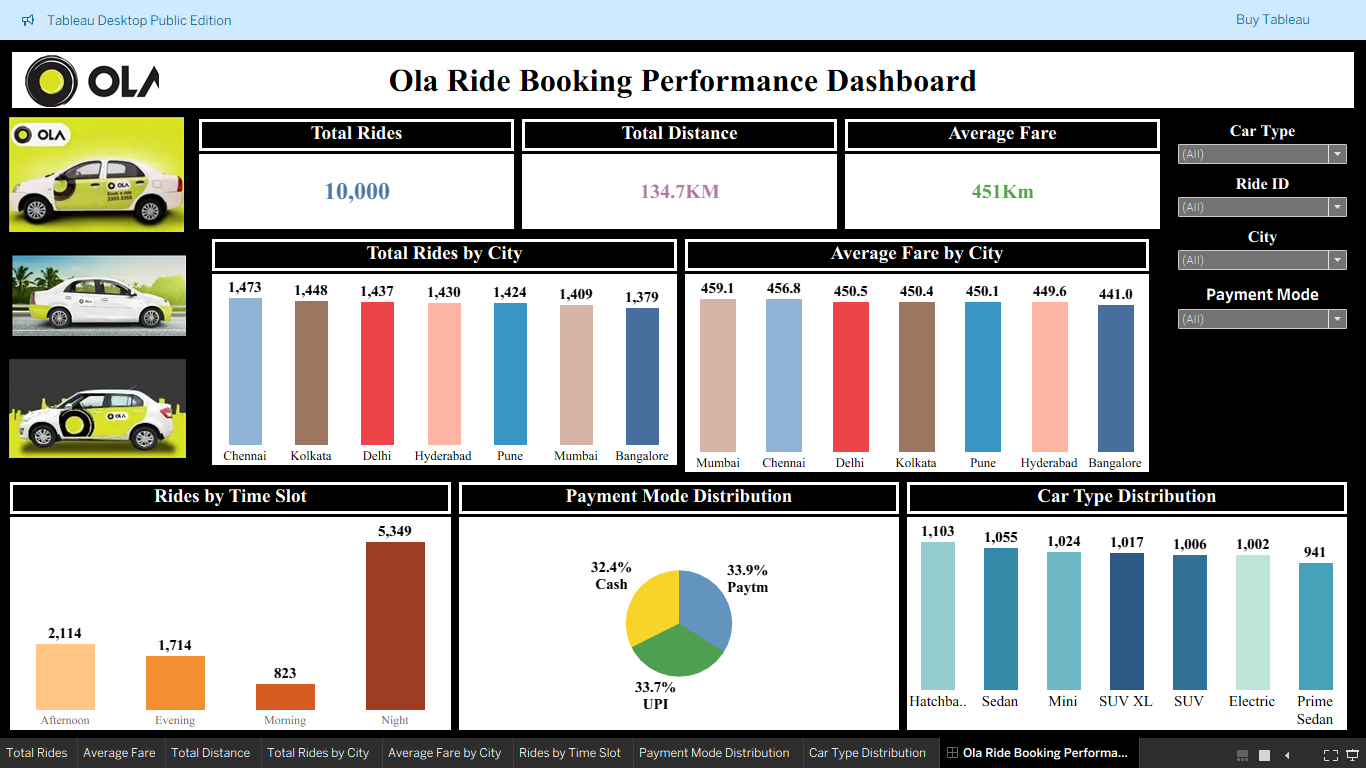

Layout of this report page (visuals, bound fields, positions):
{"tool":"tableau","page":{"name":"Ola Ride Booking Performance Dashboard","canvas":[1000,1000],"units":"permille","ordinal":0},"visuals":[{"type":"title","box":[6.9,14.5,986.1,90.4]},{"type":"image","box":[11.3,21.7,112.5,74.3]},{"type":"worksheet","title":"Total Rides","mark":"Automatic","box":[142.9,106.9,236.4,170.3]},{"type":"worksheet","title":"Total Distance","mark":"Automatic","box":[379.2,106.9,236.4,170.3]},{"type":"worksheet","title":"Average Fare","mark":"Automatic","box":[615.6,106.9,236.4,170.3]},{"type":"image","param":"Image/rsp6b8w7.png","box":[6.9,110.5,128.1,166.7]},{"type":"filter","title":"Car Type Distribution","param":"[federated.1m3q0z51r41yo01ft1u8f0cb2jz9].[none:Car_Type:nk]","box":[857.1,112.3,134.2,95.1]},{"type":"filter","title":"Total Rides by City","param":"[federated.1m3q0z51r41yo01ft1u8f0cb2jz9].[min:Ride_ID:nk]","box":[857.1,207.4,134.2,95.1]},{"type":"worksheet","title":"Total Rides by City","mark":"Bar","rows":["Ride_ID"],"cols":["City"],"box":[152.4,279,346.3,346]},{"type":"worksheet","title":"Average Fare by City","mark":"Automatic","rows":["Calculation_915638133506949121"],"cols":["City"],"box":[498.7,279,345.5,346]},{"type":"image","param":"Image/l42dmr9c.png","box":[8.7,291.7,127.3,148.6]},{"type":"filter","title":"Average Fare by City","param":"[federated.1m3q0z51r41yo01ft1u8f0cb2jz9].[none:City:nk]","box":[857.1,302.5,134.2,99.6]},{"type":"filter","title":"Payment Mode Distribution","param":"[federated.1m3q0z51r41yo01ft1u8f0cb2jz9].[none:Payment_Mode:nk]","box":[857.1,402.2,134.2,119.6]},{"type":"image","param":"Image/2y22zpzg.png","box":[6.9,449.3,129.9,157.6]},{"type":"worksheet","title":"Rides by Time Slot","mark":"Automatic","rows":["Ride_ID"],"cols":["Calculation_282600911817195523"],"box":[4.3,626.8,328.1,367.8]},{"type":"worksheet","title":"Payment Mode Distribution","mark":"Pie","box":[332.5,626.8,328.1,367.8]},{"type":"worksheet","title":"Car Type Distribution","mark":"Automatic","rows":["Ride_ID"],"cols":["Car_Type"],"box":[660.6,626.8,328.1,367.8]}]}

Visuals, with their boxes on the dashboard's canvas, which has no fixed pixel size, in thousandths of its width and height (x1, y1, x2, y2). These are canvas units, not pixel positions in the 1366x768 screenshot, which may show the page scaled, cropped or inside an application window:
title: 7, 14, 993, 105
image: 11, 22, 124, 96
"Total Rides" worksheet: 143, 107, 379, 277
"Total Distance" worksheet: 379, 107, 616, 277
"Average Fare" worksheet: 616, 107, 852, 277
image: 7, 110, 135, 277
"Car Type Distribution" filter: 857, 112, 991, 207
"Total Rides by City" filter: 857, 207, 991, 302
"Total Rides by City" worksheet (Bar marks): 152, 279, 499, 625
"Average Fare by City" worksheet: 499, 279, 844, 625
image: 9, 292, 136, 440
"Average Fare by City" filter: 857, 302, 991, 402
"Payment Mode Distribution" filter: 857, 402, 991, 522
image: 7, 449, 137, 607
"Rides by Time Slot" worksheet: 4, 627, 332, 995
"Payment Mode Distribution" worksheet (Pie marks): 332, 627, 661, 995
"Car Type Distribution" worksheet: 661, 627, 989, 995
